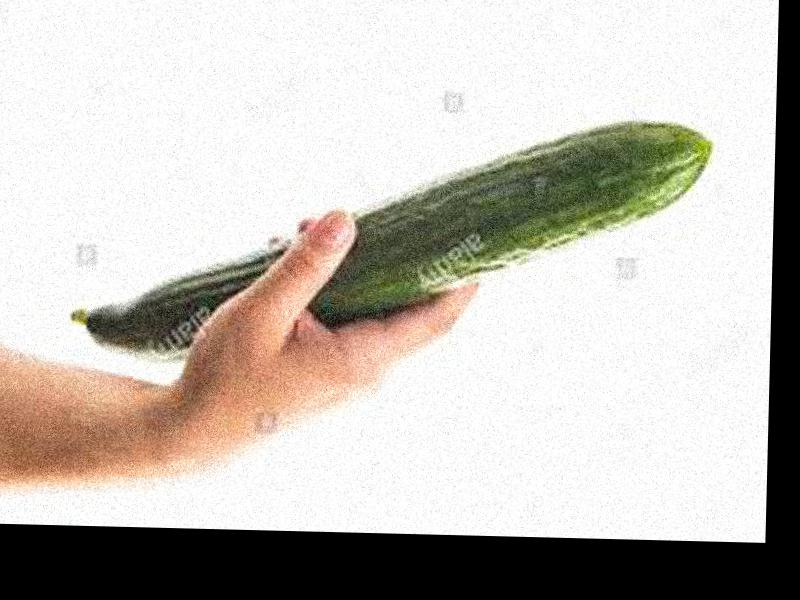Cucumber: (66, 106, 714, 375)
